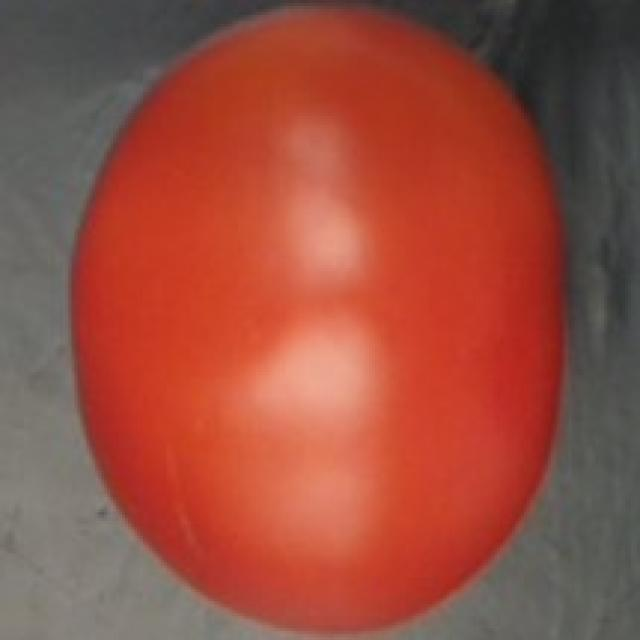ripe tomato: (55, 0, 576, 640)
